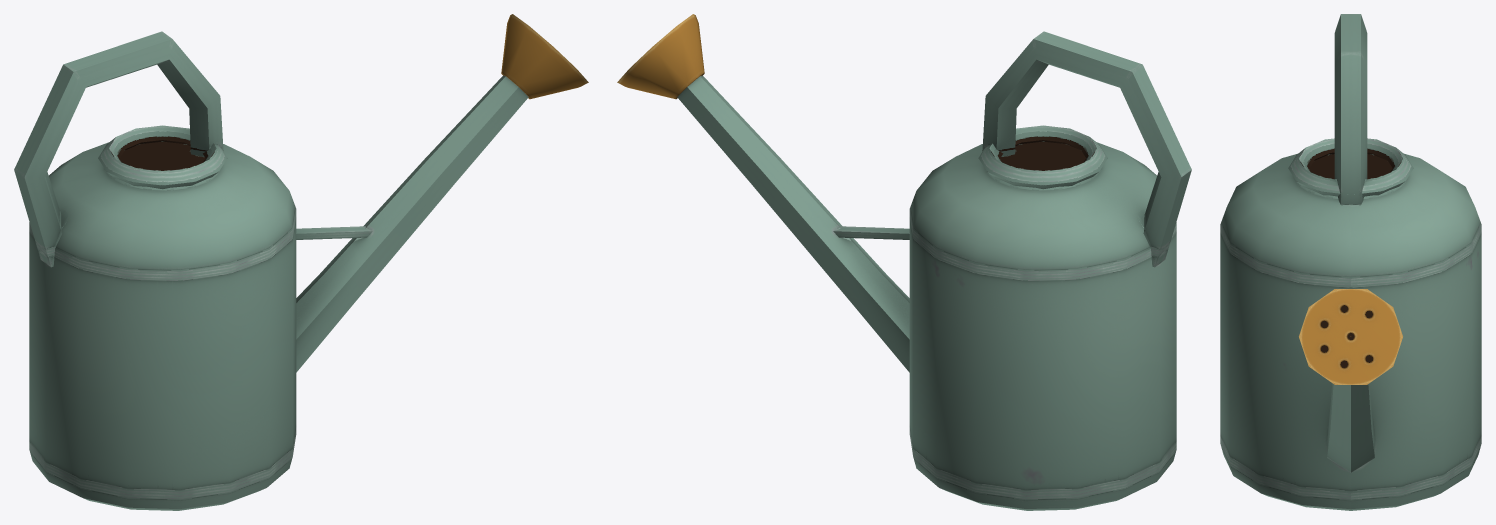
File: Watering_Can_01.glb
3 views of the same model, side by side, from view 1: azimuth 30°, elevation 25°; view 2: azimuth 150°, elevation 25°; view 3: azimuth 270°, elevation 25° (orthographic). The views are drawn at different scales.
Parts seen in each view (by area): view 1: Watering_Can_01; view 2: Watering_Can_01; view 3: Watering_Can_01.
Boxes of the visible parts, <box> form: Watering_Can_01: <box>14,14,588,510</box>; Watering_Can_01: <box>617,14,1191,510</box>; Watering_Can_01: <box>1220,14,1481,510</box>.
Size of the model in its own units: 0.3833 by 0.2779 by 0.16.
Materials: 1 (1 with a texture image).
